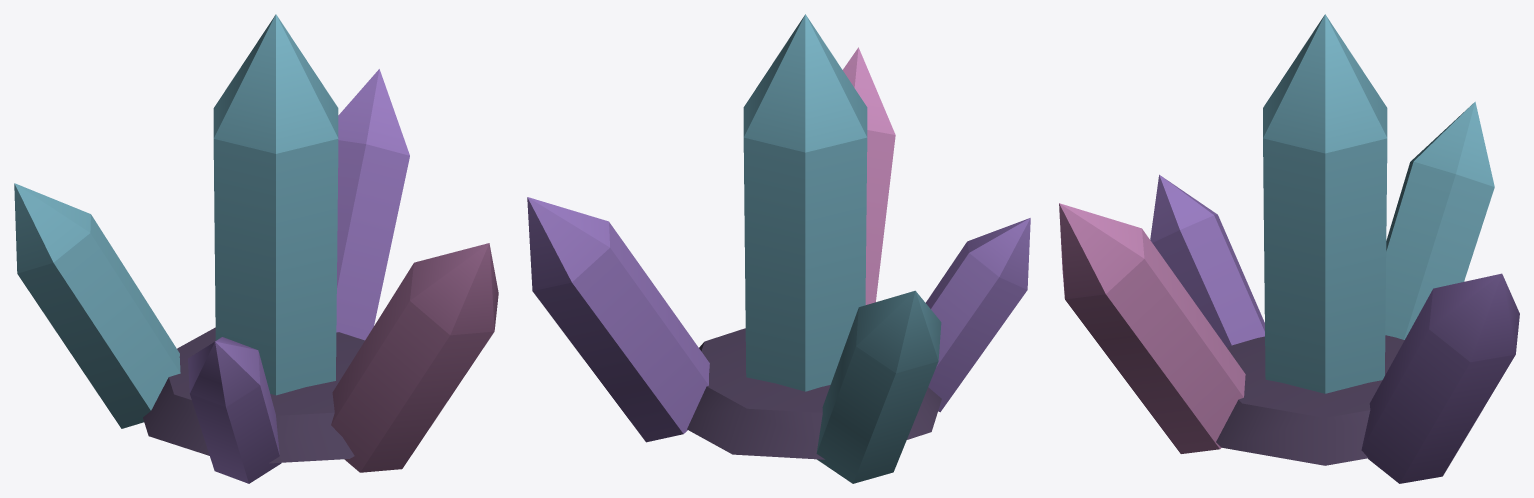
File: EvoPrism.fbx
3 renders of one model, left to right at view 1: azimuth 30°, elevation 25°; view 2: azimuth 150°, elevation 25°; view 3: azimuth 270°, elevation 25°, orthographic.
Parts seen in each view (by area): view 1: EvoPrism; view 2: EvoPrism; view 3: EvoPrism.
Part boxes in pixels (<box>): EvoPrism: <box>14,14,498,483</box>; EvoPrism: <box>527,14,1030,483</box>; EvoPrism: <box>1059,14,1519,483</box>.
Size of the model in its own units: 0.2359 by 0.2336 by 0.2358.
